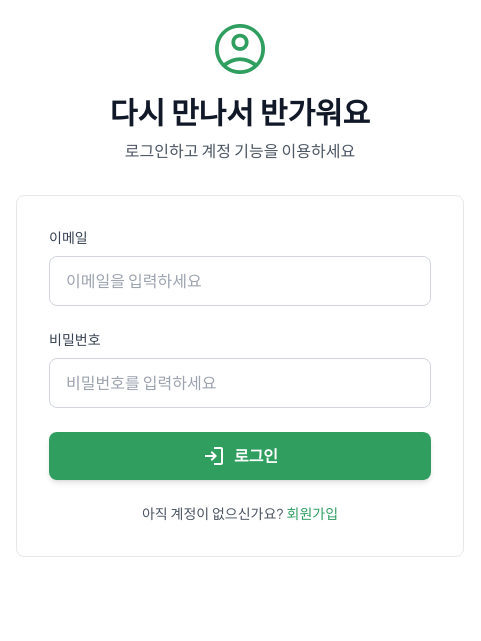
Test: Login › LP-04: 로그인 실패 — 네트워크 오류 › "서버에 연결할 수 없습니다" 에러 메시지가 노출된다
Type "test@example.com" into the field labelled "이메일" at (240, 281), box [49,256,431,306]
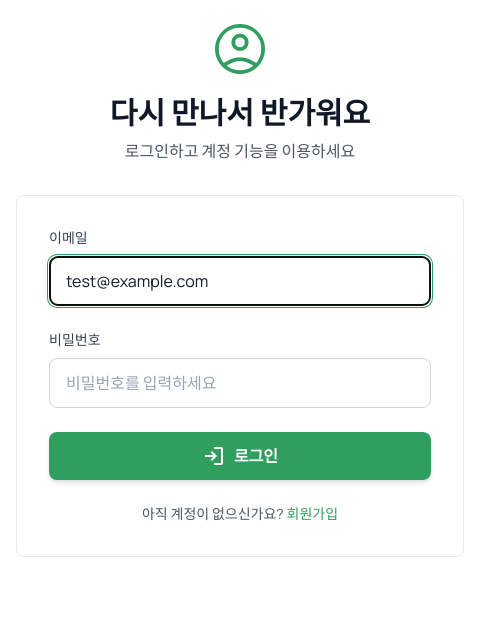
Type "password123" into the password field labelled "비밀번호" at (240, 383), box [49,358,431,408]
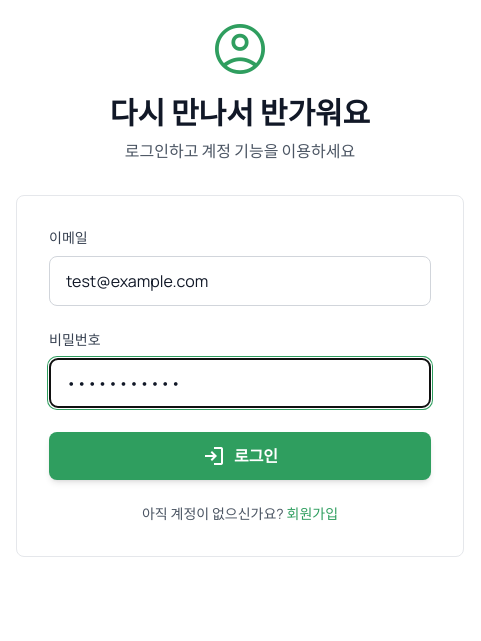
Click the button "로그인" at (240, 456), box [49,432,431,480]
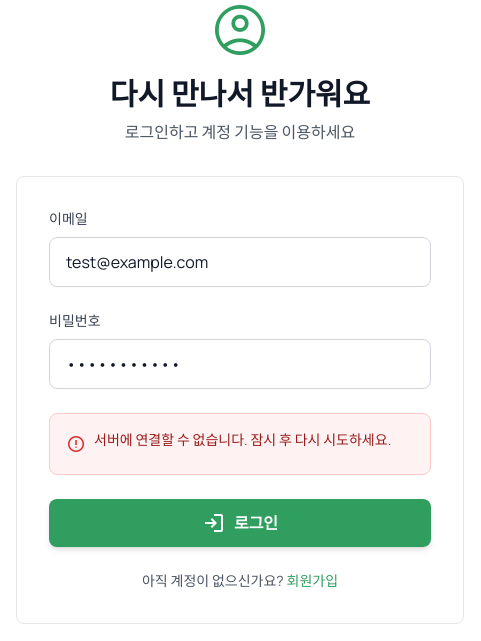
Expected: the text "서버에 연결할 수 없습니다. 잠시 후 다시 시도하세요." is shown, [94,430,391,450]
